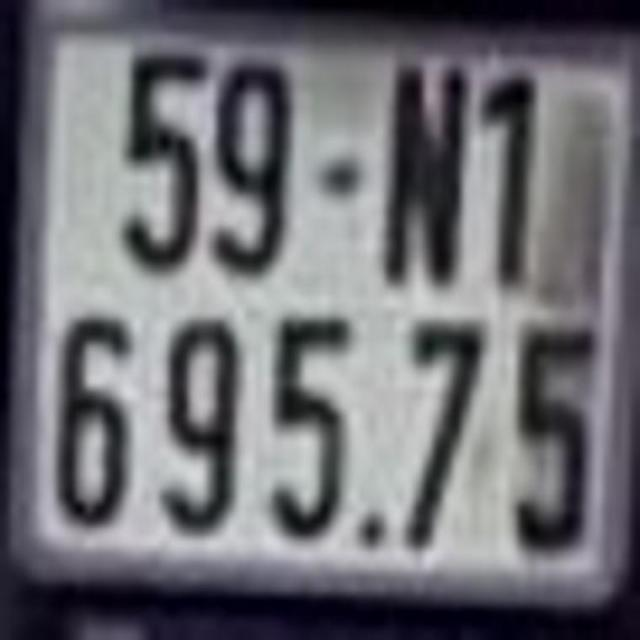1: (476, 64, 544, 296)
5: (508, 312, 602, 549), (268, 315, 352, 543), (123, 46, 208, 268)
6: (54, 310, 130, 530)
7: (400, 318, 484, 550)
9: (161, 314, 240, 544), (214, 54, 290, 276)
N: (386, 64, 469, 289)
